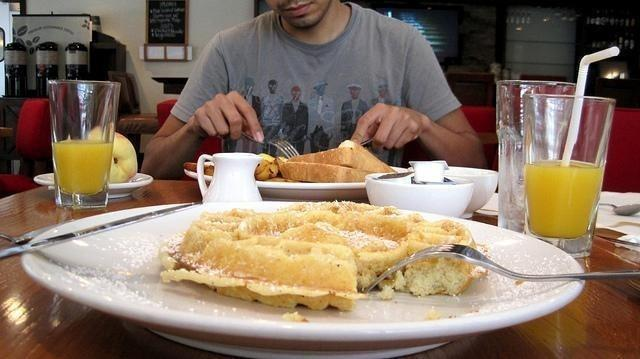glass-normal: (525, 94, 617, 258), (495, 78, 576, 235), (47, 78, 121, 207)
